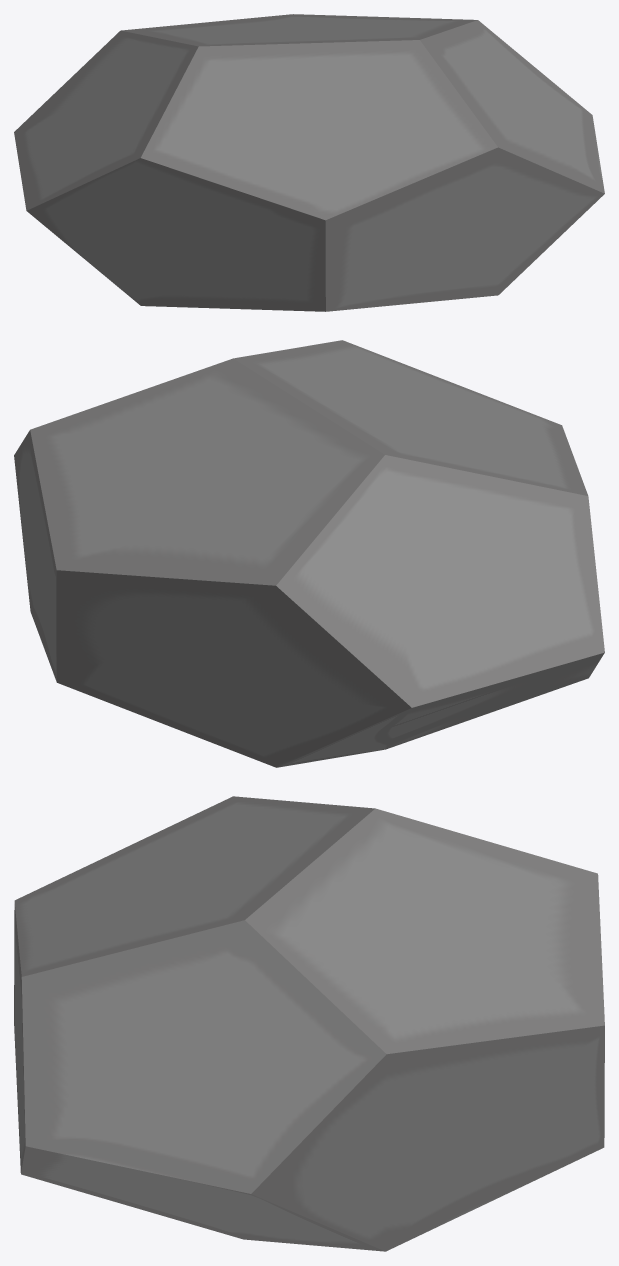
File: Stone02.fbx
3 views of the same model, one above another, from view 1: azimuth 30°, elevation 25°; view 2: azimuth 150°, elevation 25°; view 3: azimuth 270°, elevation 25° (orthographic). The views are drawn at different scales.
Visible parts, largest first — view 1: SmallRock; view 2: SmallRock; view 3: SmallRock.
Boxes of the visible parts, left/top/right/bottom form: SmallRock: left=14, top=14, right=604, bottom=311; SmallRock: left=14, top=340, right=604, bottom=767; SmallRock: left=14, top=796, right=604, bottom=1251.
Size of the model in its own units: 6.22 by 2.73 by 4.56.
